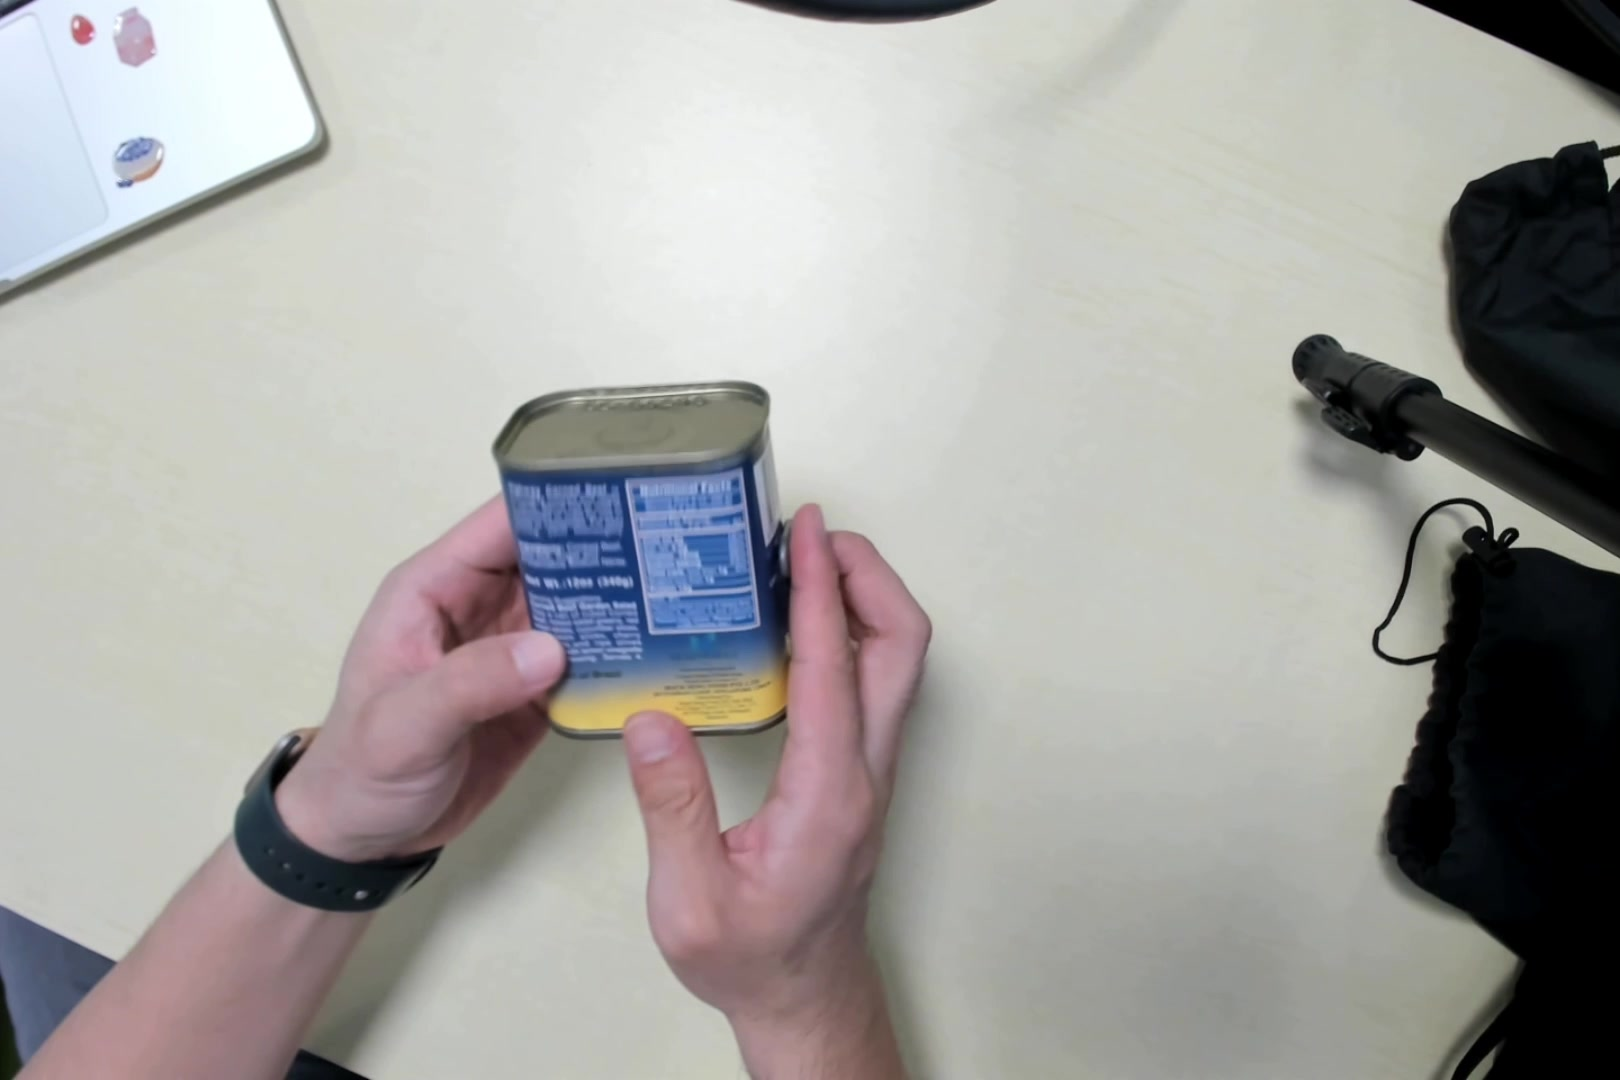CannedBeefOtherMeats_300-399g_Halal_NonHealthy: (501, 378, 792, 730)
